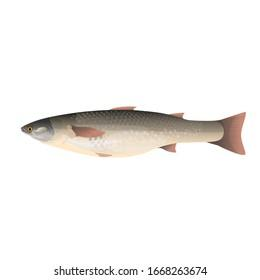Mullet: (20, 105, 247, 161)
